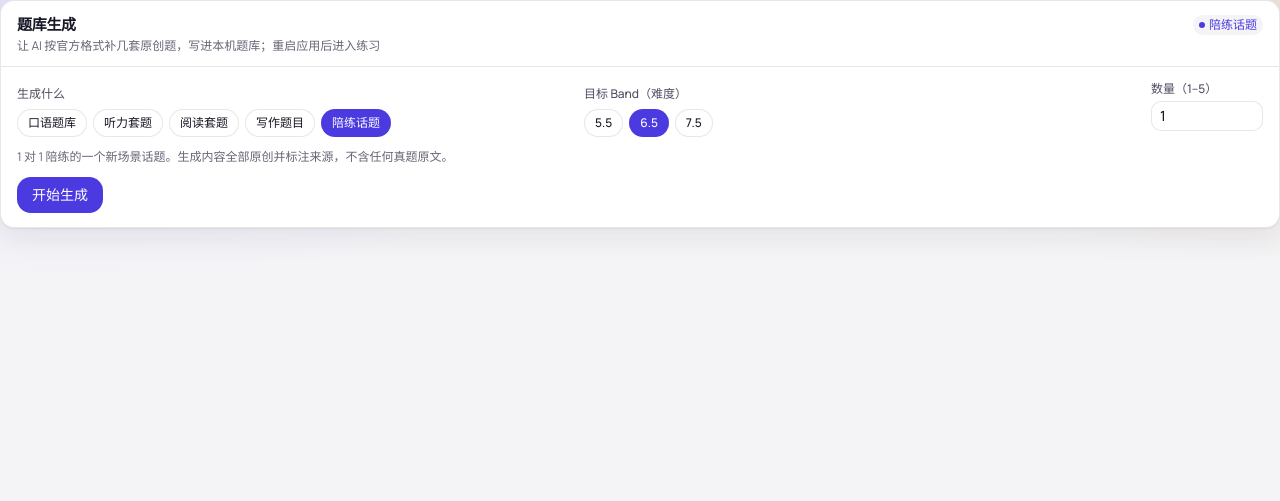
Test: 题库生成卡（§17.4） › 能力齐备时可提交，成功后列出产物并写明「重启应用后」生效
Step 1. Click the button "开始生成" → click(60, 195), box [17,177,103,213]
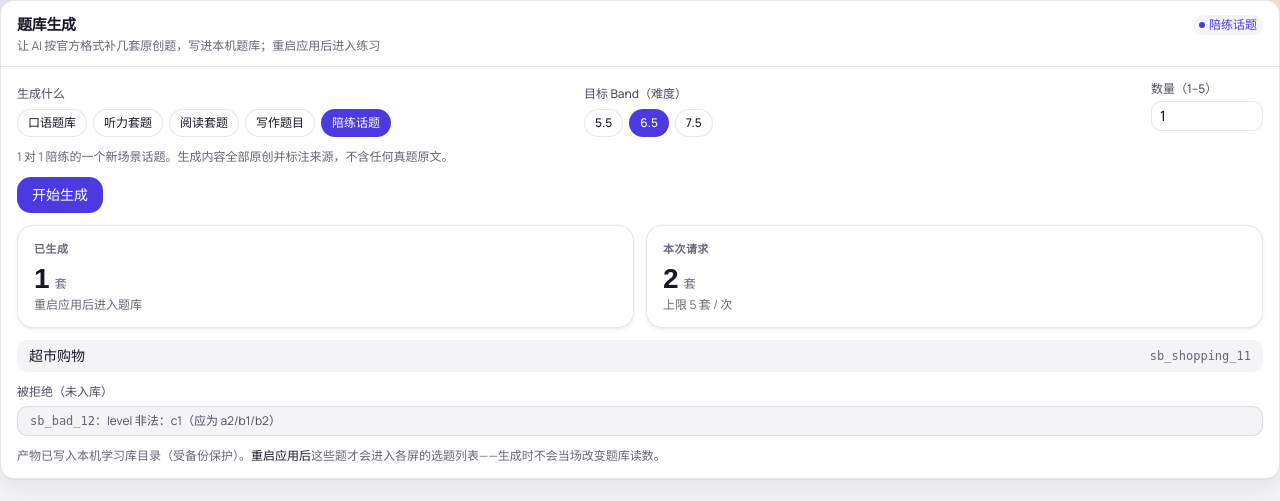
Result: the element named "生成结果" shows "1" at [34,263,49,294]
Result: the element named "生成结果" shows "2" at [663,263,678,294]
Result: the text "超市购物" is shown at [29,346,85,366]
